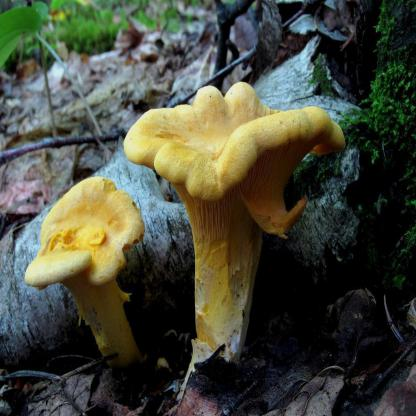chanterelle: (123, 80, 344, 400), (24, 176, 145, 372)
